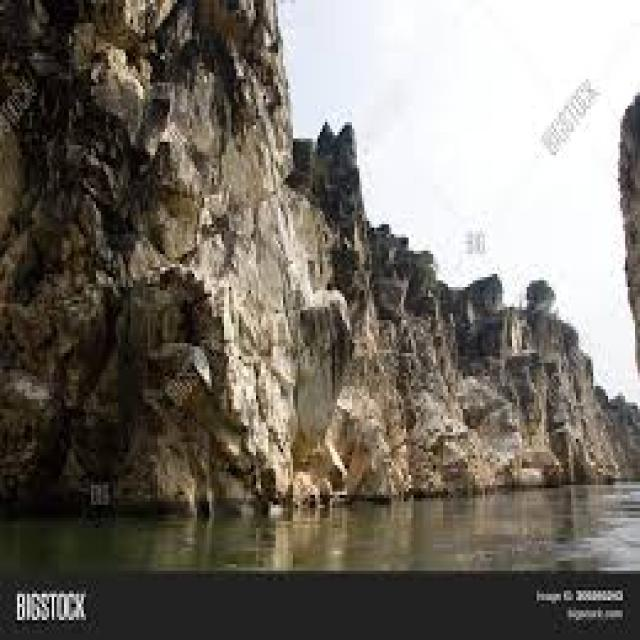Metamorphic: (2, 7, 640, 508)
